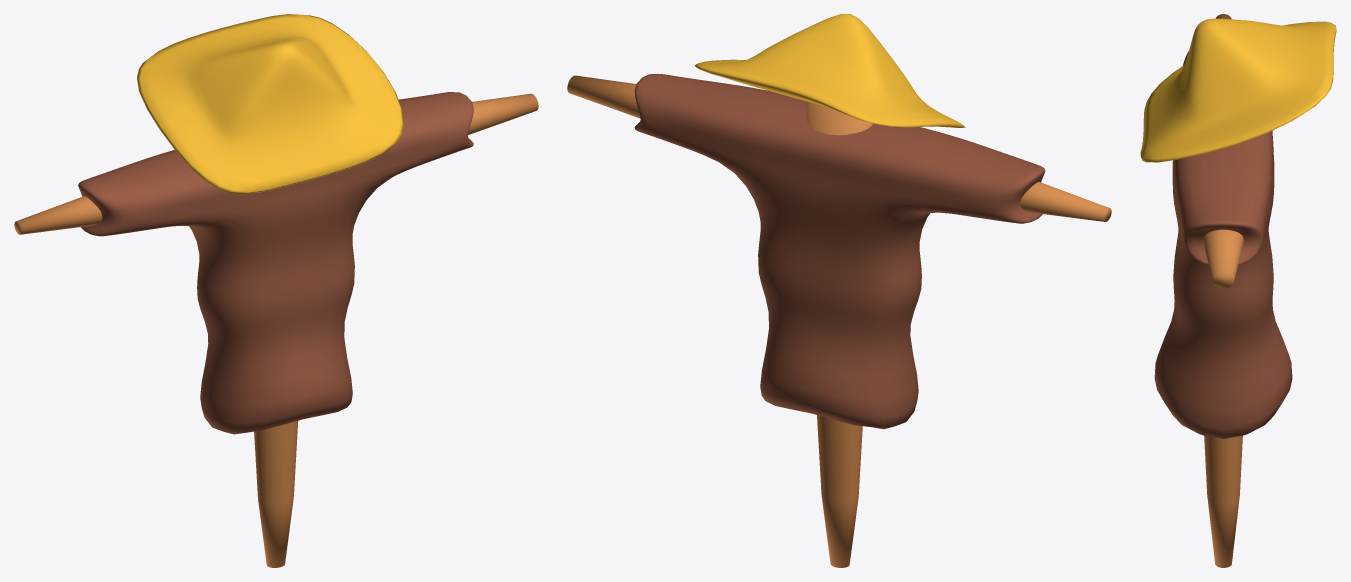
Rendered from scarecrow.fbx.
3 views of the same model, side by side, from view 1: azimuth 30°, elevation 25°; view 2: azimuth 150°, elevation 25°; view 3: azimuth 270°, elevation 25° (orthographic). The views are drawn at different scales.
Parts seen in each view (by area): view 1: H, Hat, Stick; view 2: H, Hat, Stick; view 3: H, Hat, Stick.
Boxes of the visible parts, x1,y1,x2,y2 form: H: [78, 92, 473, 434]; Hat: [137, 14, 403, 194]; Stick: [14, 93, 538, 567]; H: [634, 74, 1045, 429]; Hat: [695, 14, 965, 127]; Stick: [567, 75, 1111, 567]; H: [1154, 51, 1292, 438]; Hat: [1140, 18, 1336, 162]; Stick: [1203, 14, 1243, 567].
Bounding box in the file's own units: 1157 × 1125 × 369.
